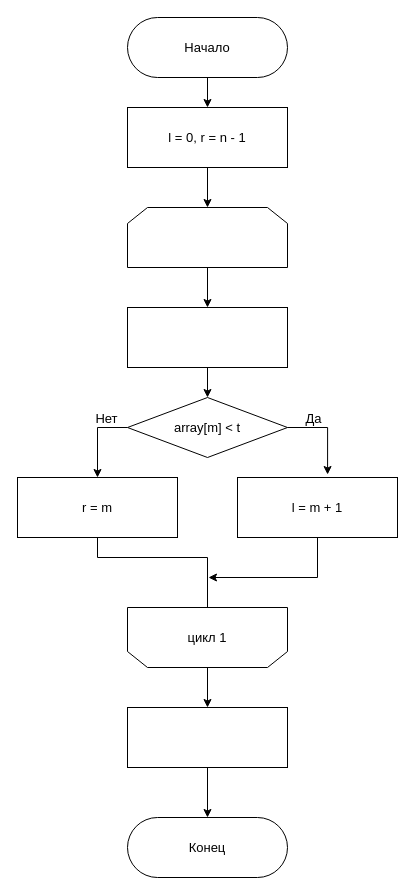
This 415x895 diagram has some shape labels left out. The centre of each missing label's shape, as x and y in pixels:
m = l + (r - l) / 2: the point at 207,337
вернуть index: the point at 207,737
цикл 1 l < r: the point at 207,237
